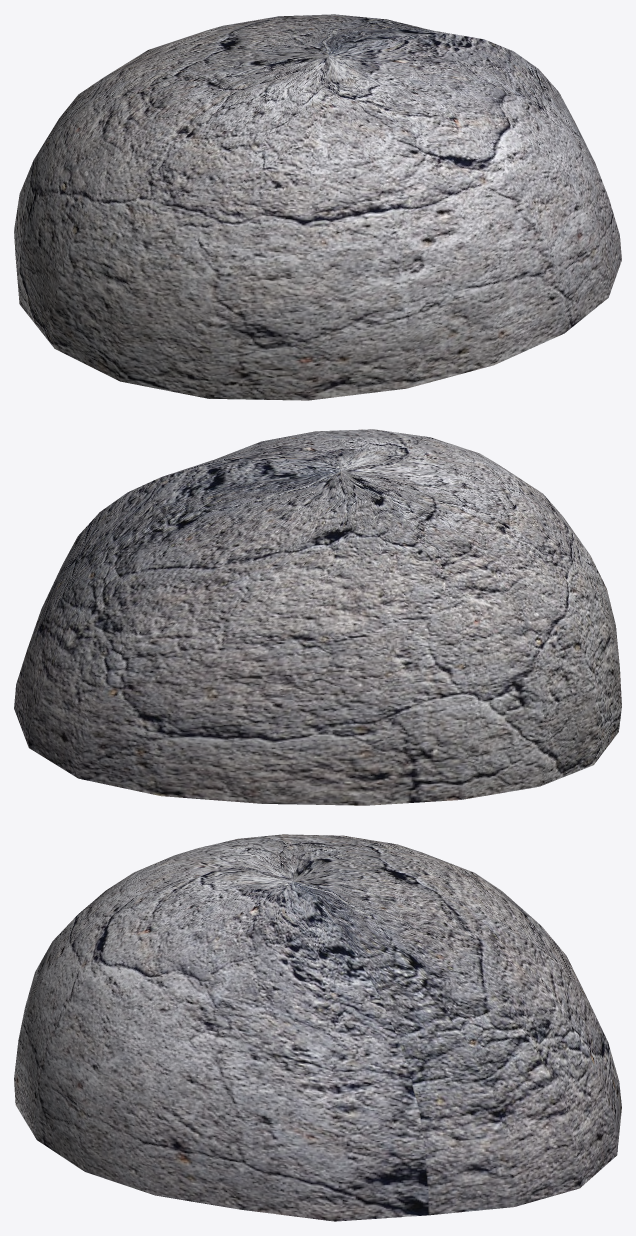
The model's file is Rock.fbx.
3 views of the same model, one above another, from view 1: azimuth 30°, elevation 25°; view 2: azimuth 150°, elevation 25°; view 3: azimuth 270°, elevation 25° (orthographic). The views are drawn at different scales.
Visible parts, largest first — view 1: pSphere2; view 2: pSphere2; view 3: pSphere2.
Part boxes in pixels (<box>): pSphere2: <box>14,14,621,400</box>; pSphere2: <box>14,429,621,805</box>; pSphere2: <box>14,834,621,1221</box>.
Bounding box in the file's own units: 6.79 × 2.81 × 6.58.
Materials: 1 (1 with a texture image).
